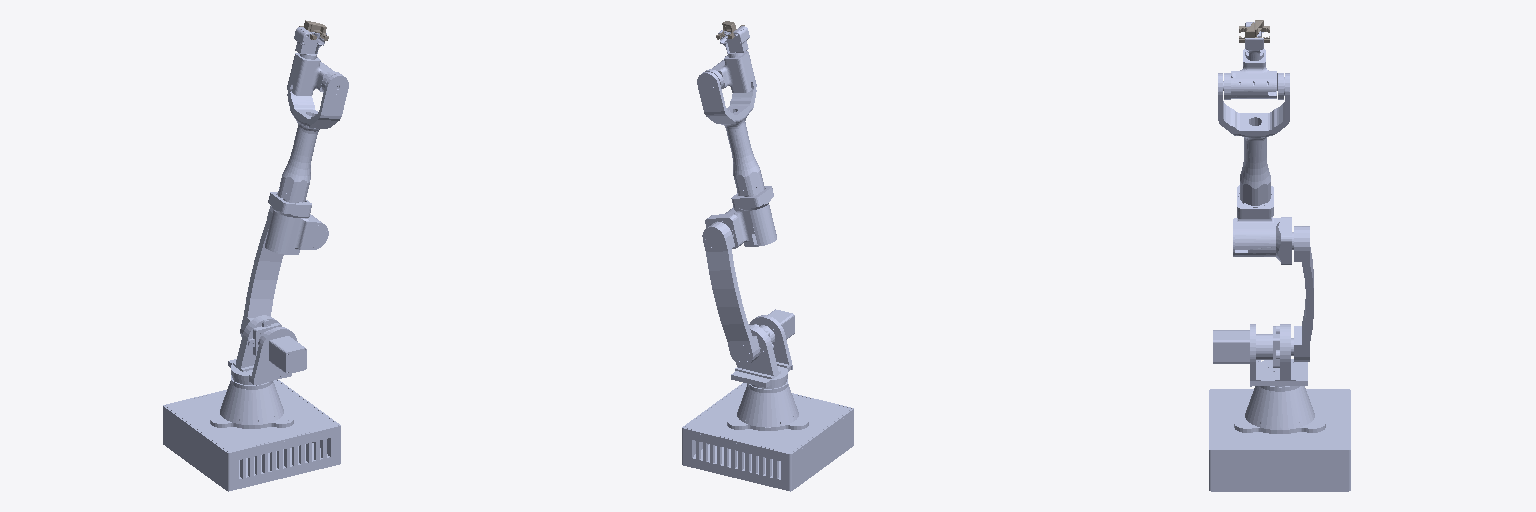
The robot description file, URDF, robot "ovcrobot":
<?xml version="1.0" encoding="utf-8"?>
<!-- This URDF was automatically created by SolidWorks to URDF Exporter! Originally created by [author] ([email redacted]) 
     Commit Version: 1.6.0-1-g15f4949  Build Version: 1.6.7594.29634
     For more information, please see http://wiki.ros.org/sw_urdf_exporter -->
<robot
  name="ovcrobot">
  <link
    name="base_link">
    <inertial>
      <origin
        xyz="-4.8819E-07 -1.5953E-07 0.063106"
        rpy="0 0 0" />
      <mass
        value="3.1559" />
      <inertia
        ixx="0.029314"
        ixy="-4.5506E-08"
        ixz="-2.4771E-10"
        iyy="0.031511"
        iyz="6.5169E-10"
        izz="0.057344" />
    </inertial>
    <visual>
      <origin
        xyz="0 0 0"
        rpy="0 0 0" />
      <geometry>
        <mesh
          filename="package://ovcrobot/meshes/base_link.STL" />
      </geometry>
      <material
        name="">
        <color
          rgba="0.79216 0.81961 0.93333 1" />
      </material>
    </visual>
    <collision>
      <origin
        xyz="0 0 0"
        rpy="0 0 0" />
      <geometry>
        <mesh
          filename="package://ovcrobot/meshes/base_link.STL" />
      </geometry>
    </collision>
  </link>
  <link
    name="L1_link">
    <inertial>
      <origin
        xyz="0.03095 -0.036089 0.053315"
        rpy="0 0 0" />
      <mass
        value="1.0237" />
      <inertia
        ixx="0.0015703"
        ixy="1.4757E-06"
        ixz="-6.9894E-05"
        iyy="0.001198"
        iyz="3.5362E-06"
        izz="0.0016531" />
    </inertial>
    <visual>
      <origin
        xyz="0 0 0"
        rpy="0 0 0" />
      <geometry>
        <mesh
          filename="package://ovcrobot/meshes/L1_link.STL" />
      </geometry>
      <material
        name="">
        <color
          rgba="0.79216 0.81961 0.93333 1" />
      </material>
    </visual>
    <collision>
      <origin
        xyz="0 0 0"
        rpy="0 0 0" />
      <geometry>
        <mesh
          filename="package://ovcrobot/meshes/L1_link.STL" />
      </geometry>
    </collision>
  </link>
  <joint
    name="J1_joint"
    type="revolute">
    <origin
      xyz="0 1.2332E-05 0.218"
      rpy="0 0 0" />
    <parent
      link="base_link" />
    <child
      link="L1_link" />
    <axis
      xyz="0 0 -1" />
    <limit
      lower="0"
      upper="0"
      effort="0"
      velocity="0" />
  </joint>
  <link
    name="L2_link">
    <inertial>
      <origin
        xyz="0.037865 -0.0080846 0.14131"
        rpy="0 0 0" />
      <mass
        value="0.57326" />
      <inertia
        ixx="0.0039218"
        ixy="5.9826E-09"
        ixz="-0.00097761"
        iyy="0.0042712"
        iyz="5.9204E-09"
        izz="0.00053529" />
    </inertial>
    <visual>
      <origin
        xyz="0 0 0"
        rpy="0 0 0" />
      <geometry>
        <mesh
          filename="package://ovcrobot/meshes/L2_link.STL" />
      </geometry>
      <material
        name="">
        <color
          rgba="0.79216 0.81961 0.93333 1" />
      </material>
    </visual>
    <collision>
      <origin
        xyz="0 0 0"
        rpy="0 0 0" />
      <geometry>
        <mesh
          filename="package://ovcrobot/meshes/L2_link.STL" />
      </geometry>
    </collision>
  </link>
  <joint
    name="J2_joint"
    type="revolute">
    <origin
      xyz="0.037754 0.059488 0.073237"
      rpy="0 0 0" />
    <parent
      link="L1_link" />
    <child
      link="L2_link" />
    <axis
      xyz="0 1 0" />
    <limit
      lower="0"
      upper="0"
      effort="0"
      velocity="0" />
  </joint>
  <link
    name="L3_link">
    <inertial>
      <origin
        xyz="-0.030158 -0.1017 0.0089663"
        rpy="0 0 0" />
      <mass
        value="0.80243" />
      <inertia
        ixx="0.0014584"
        ixy="-0.00024621"
        ixz="0.00018891"
        iyy="0.0016357"
        iyz="7.0594E-05"
        izz="0.0016708" />
    </inertial>
    <visual>
      <origin
        xyz="0 0 0"
        rpy="0 0 0" />
      <geometry>
        <mesh
          filename="package://ovcrobot/meshes/L3_link.STL" />
      </geometry>
      <material
        name="">
        <color
          rgba="0.79216 0.81961 0.93333 1" />
      </material>
    </visual>
    <collision>
      <origin
        xyz="0 0 0"
        rpy="0 0 0" />
      <geometry>
        <mesh
          filename="package://ovcrobot/meshes/L3_link.STL" />
      </geometry>
    </collision>
  </link>
  <joint
    name="J3_joint"
    type="revolute">
    <origin
      xyz="0.077646 0 0.28978"
      rpy="0 0.2618 0" />
    <parent
      link="L2_link" />
    <child
      link="L3_link" />
    <axis
      xyz="0 -1 0" />
    <limit
      lower="0"
      upper="0"
      effort="0"
      velocity="0" />
  </joint>
  <link
    name="L4_link">
    <inertial>
      <origin
        xyz="-7.3983E-07 -0.00096878 0.11233"
        rpy="0 0 0" />
      <mass
        value="0.69021" />
      <inertia
        ixx="0.0055744"
        ixy="5.3045E-10"
        ixz="-1.0199E-08"
        iyy="0.004821"
        iyz="5.6439E-05"
        izz="0.0011414" />
    </inertial>
    <visual>
      <origin
        xyz="0 0 0"
        rpy="0 0 0" />
      <geometry>
        <mesh
          filename="package://ovcrobot/meshes/L4_link.STL" />
      </geometry>
      <material
        name="">
        <color
          rgba="0.79216 0.81961 0.93333 1" />
      </material>
    </visual>
    <collision>
      <origin
        xyz="0 0 0"
        rpy="0 0 0" />
      <geometry>
        <mesh
          filename="package://ovcrobot/meshes/L4_link.STL" />
      </geometry>
    </collision>
  </link>
  <joint
    name="J4_joint"
    type="revolute">
    <origin
      xyz="-0.06 -0.113 0.108"
      rpy="0 0 0" />
    <parent
      link="L3_link" />
    <child
      link="L4_link" />
    <axis
      xyz="0 0 -1" />
    <limit
      lower="0"
      upper="0"
      effort="0"
      velocity="0" />
  </joint>
  <link
    name="L5_link">
    <inertial>
      <origin
        xyz="-0.022588 -0.0029039 0.0020945"
        rpy="0 0 0" />
      <mass
        value="0.32271" />
      <inertia
        ixx="0.00043022"
        ixy="1.5874E-05"
        ixz="8.4359E-06"
        iyy="0.00028775"
        iyz="-9.2362E-07"
        izz="0.0004593" />
    </inertial>
    <visual>
      <origin
        xyz="0 0 0"
        rpy="0 0 0" />
      <geometry>
        <mesh
          filename="package://ovcrobot/meshes/L5_link.STL" />
      </geometry>
      <material
        name="">
        <color
          rgba="0.79216 0.81961 0.93333 1" />
      </material>
    </visual>
    <collision>
      <origin
        xyz="0 0 0"
        rpy="0 0 0" />
      <geometry>
        <mesh
          filename="package://ovcrobot/meshes/L5_link.STL" />
      </geometry>
    </collision>
  </link>
  <joint
    name="J5_joint"
    type="revolute">
    <origin
      xyz="0 -0.0015 0.28"
      rpy="0 0 0" />
    <parent
      link="L4_link" />
    <child
      link="L5_link" />
    <axis
      xyz="0 -1 0" />
    <limit
      lower="0"
      upper="0"
      effort="0"
      velocity="0" />
  </joint>
  <link
    name="L6_link">
    <inertial>
      <origin
        xyz="0.0010608 -7.3178E-05 0.033044"
        rpy="0 0 0" />
      <mass
        value="0.072475" />
      <inertia
        ixx="2.451E-05"
        ixy="-4.7257E-08"
        ixz="3.945E-06"
        iyy="3.7051E-05"
        iyz="-4.7465E-08"
        izz="2.2666E-05" />
    </inertial>
    <visual>
      <origin
        xyz="0 0 0"
        rpy="0 0 0" />
      <geometry>
        <mesh
          filename="package://ovcrobot/meshes/L6_link.STL" />
      </geometry>
      <material
        name="">
        <color
          rgba="0.79216 0.81961 0.93333 1" />
      </material>
    </visual>
    <collision>
      <origin
        xyz="0 0 0"
        rpy="0 0 0" />
      <geometry>
        <mesh
          filename="package://ovcrobot/meshes/L6_link.STL" />
      </geometry>
    </collision>
  </link>
  <joint
    name="J6_joint"
    type="revolute">
    <origin
      xyz="-0.05 0 0.046"
      rpy="0 -0.2618 0" />
    <parent
      link="L5_link" />
    <child
      link="L6_link" />
    <axis
      xyz="0.25882 0 0.96593" />
    <limit
      lower="0"
      upper="0"
      effort="0"
      velocity="0" />
  </joint>
  <link
    name="L7_link">
    <inertial>
      <origin
        xyz="0.036479 0.010378 -0.003307"
        rpy="0 0 0" />
      <mass
        value="0.010354" />
      <inertia
        ixx="1.6581E-06"
        ixy="-4.7346E-08"
        ixz="2.3376E-07"
        iyy="2.8867E-06"
        iyz="4.2874E-07"
        izz="2.8973E-06" />
    </inertial>
    <visual>
      <origin
        xyz="0 0 0"
        rpy="0 0 0" />
      <geometry>
        <mesh
          filename="package://ovcrobot/meshes/L7_link.STL" />
      </geometry>
      <material
        name="">
        <color
          rgba="0.64314 0.61569 0.6 1" />
      </material>
    </visual>
    <collision>
      <origin
        xyz="0 0 0"
        rpy="0 0 0" />
      <geometry>
        <mesh
          filename="package://ovcrobot/meshes/L7_link.STL" />
      </geometry>
    </collision>
  </link>
  <joint
    name="J7_joint"
    type="prismatic">
    <origin
      xyz="-0.0052129 -0.033 0.067478"
      rpy="-2.8798 0 1.5708" />
    <parent
      link="L6_link" />
    <child
      link="L7_link" />
    <axis
      xyz="-1 0 0" />
    <limit
      lower="0"
      upper="0"
      effort="0"
      velocity="0" />
  </joint>
  <link
    name="L8_link">
    <inertial>
      <origin
        xyz="0.036479 0.010378 -0.0033069"
        rpy="0 0 0" />
      <mass
        value="0.010354" />
      <inertia
        ixx="1.6581E-06"
        ixy="-4.7347E-08"
        ixz="2.3376E-07"
        iyy="2.8867E-06"
        iyz="4.2874E-07"
        izz="2.8973E-06" />
    </inertial>
    <visual>
      <origin
        xyz="0 0 0"
        rpy="0 0 0" />
      <geometry>
        <mesh
          filename="package://ovcrobot/meshes/L8_link.STL" />
      </geometry>
      <material
        name="">
        <color
          rgba="0.64314 0.61569 0.6 1" />
      </material>
    </visual>
    <collision>
      <origin
        xyz="0 0 0"
        rpy="0 0 0" />
      <geometry>
        <mesh
          filename="package://ovcrobot/meshes/L8_link.STL" />
      </geometry>
    </collision>
  </link>
  <joint
    name="J8_joint"
    type="prismatic">
    <origin
      xyz="0.038254 0.033051 0.055832"
      rpy="2.8798 0 -1.5708" />
    <parent
      link="L6_link" />
    <child
      link="L8_link" />
    <axis
      xyz="1 0 0" />
    <limit
      lower="0"
      upper="0"
      effort="0"
      velocity="0" />
  </joint>
</robot>

--- What the picture shows (computed from the rendered views, not written in the file) ---
The picture shows the robot from 3 angles, left to right: view 1: azimuth 30°, elevation 25°; view 2: azimuth 150°, elevation 25°; view 3: azimuth 270°, elevation 25°; orthographic projection.
Model ovcrobot with 9 links and 8 joints (6 revolute, 2 prismatic), rooted at base_link, posed every joint at zero.
Links seen in each view (by area): view 1: base_link, L4_link, L1_link, L3_link, L2_link, L5_link, L6_link; view 2: base_link, L2_link, L4_link, L1_link, L3_link, L5_link, L6_link; view 3: base_link, L1_link, L4_link, L3_link, L5_link, L2_link.
Link boxes in pixels (left/top/right/bottom): base_link: left=163, top=375, right=340, bottom=491; L4_link: left=278, top=74, right=348, bottom=202; L1_link: left=228, top=315, right=306, bottom=384; L3_link: left=265, top=192, right=328, bottom=254; L2_link: left=240, top=206, right=283, bottom=336; L5_link: left=287, top=53, right=341, bottom=95; L6_link: left=294, top=27, right=326, bottom=59; base_link: left=682, top=379, right=853, bottom=491; L2_link: left=702, top=222, right=759, bottom=365; L4_link: left=697, top=72, right=764, bottom=196; L1_link: left=731, top=309, right=794, bottom=387; L3_link: left=705, top=186, right=776, bottom=248; L5_link: left=705, top=51, right=756, bottom=92; L6_link: left=718, top=26, right=749, bottom=57; base_link: left=1209, top=386, right=1350, bottom=491; L1_link: left=1213, top=324, right=1307, bottom=386; L4_link: left=1218, top=73, right=1289, bottom=205; L3_link: left=1233, top=185, right=1291, bottom=264; L5_link: left=1224, top=49, right=1284, bottom=99; L2_link: left=1291, top=226, right=1313, bottom=361.
Bounding box of the posed robot: 0.3429 × 0.31 × 1.11 m (x, y, z).
Meshes: 9 distinct files referenced, 9 mesh visuals loaded (9 binary STL).